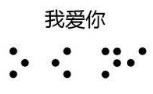Braille: (126, 46, 147, 79), (51, 47, 72, 79), (101, 47, 122, 79), (9, 46, 29, 79)
